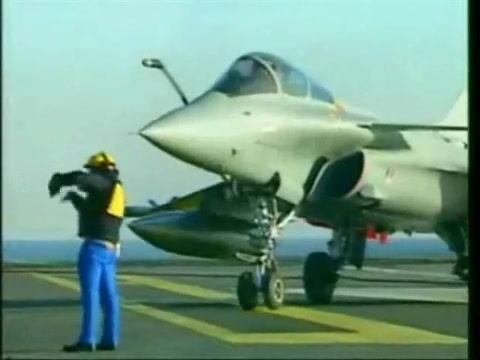aeroplane: (128, 52, 472, 312)
